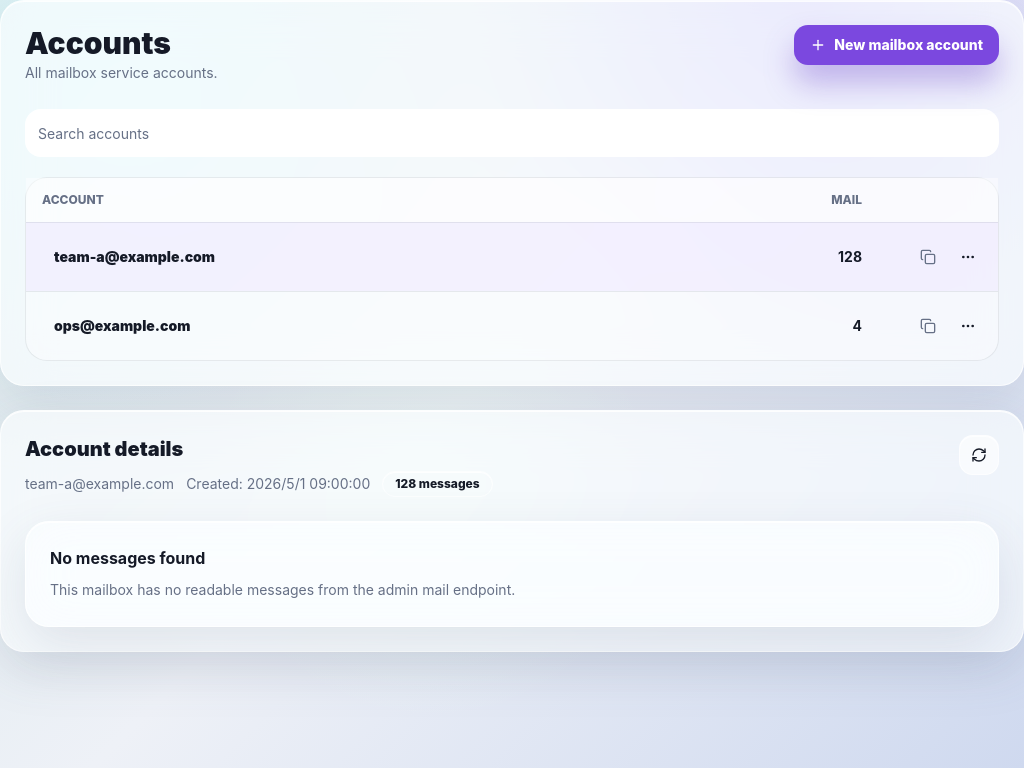
Test: AccountsPage › copies an account email from the account list
Click the button named "Copy team-a@example.com". click: coordinates (928, 256)
box: x1=910 y1=238 x2=946 y2=274
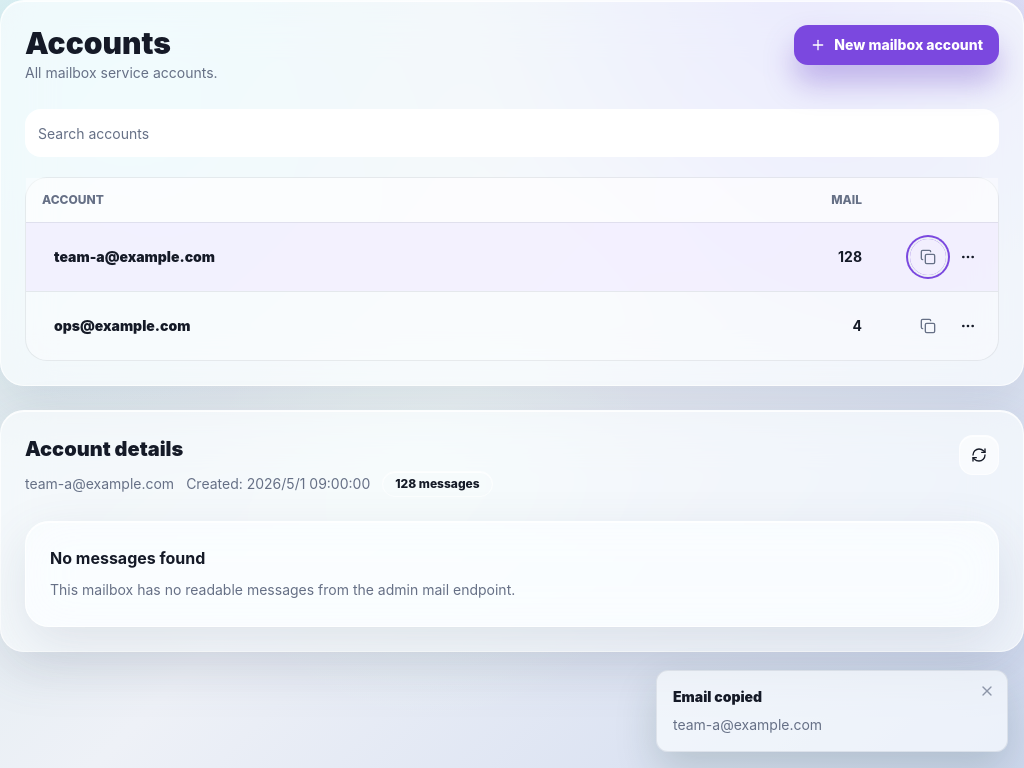
Now the text "Email copied" is shown, box x1=673 y1=688 x2=762 y2=705
